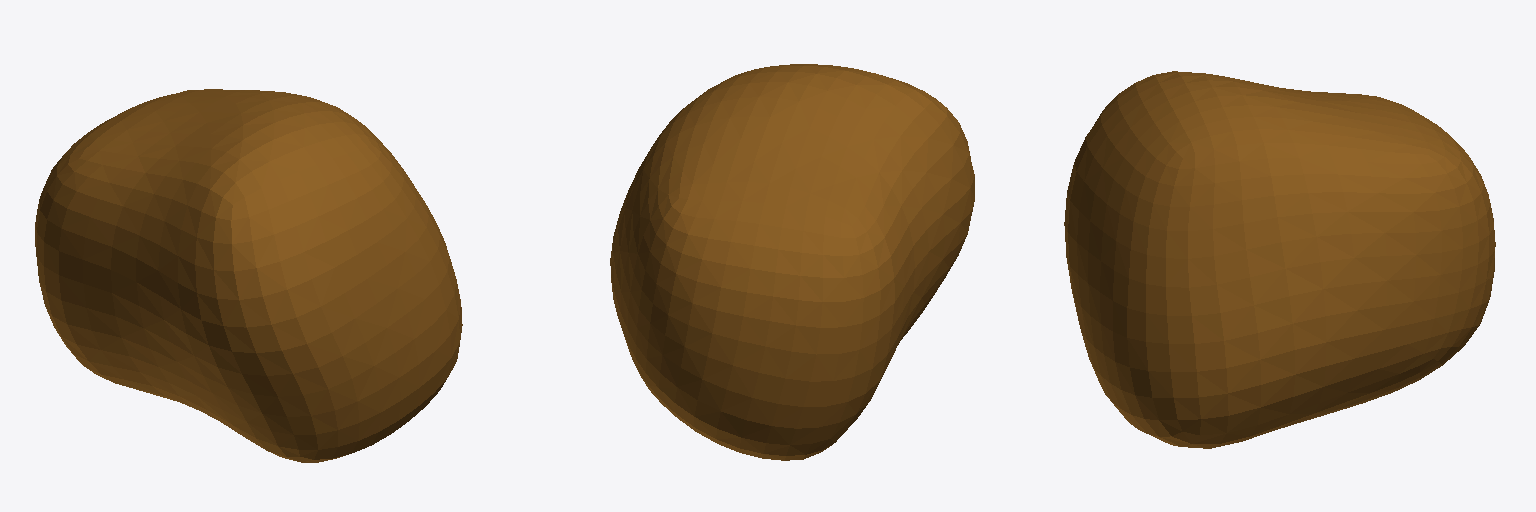
The model's file is fing1_1.obj.
The picture shows the model from 3 angles: view 1: azimuth 30°, elevation 25°; view 2: azimuth 150°, elevation 25°; view 3: azimuth 270°, elevation 25°; orthographic projection.
Visible parts, largest first — view 1: f1o1; view 2: f1o1; view 3: f1o1.
Boxes of the visible parts, box(x1,y1,x2,y2) form: f1o1: box(35, 89, 462, 462); f1o1: box(610, 64, 974, 460); f1o1: box(1064, 71, 1495, 448).
Size of the model in its own units: 1.48 by 1.41 by 1.7.